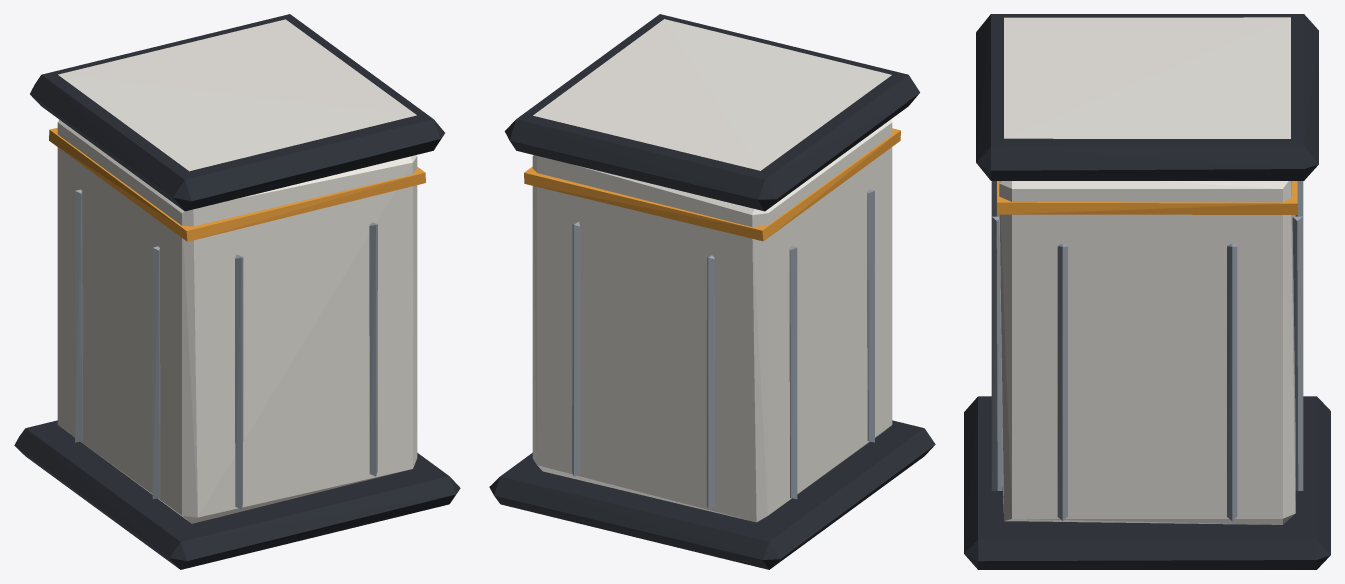
Rendered from display_pedestal_lod1.obj.
3 renders of one model, left to right at view 1: azimuth 30°, elevation 25°; view 2: azimuth 150°, elevation 25°; view 3: azimuth 270°, elevation 25°, orthographic. The views are drawn at different scales.
Parts seen in each view (by area): view 1: display_pedestal_lod1; view 2: display_pedestal_lod1; view 3: display_pedestal_lod1.
Boxes of the visible parts, x1,y1,x2,y2 form: display_pedestal_lod1: [14, 14, 460, 569]; display_pedestal_lod1: [489, 14, 935, 569]; display_pedestal_lod1: [964, 14, 1330, 569].
Size of the model in its own units: 0.8663 by 1.1 by 0.8663.
